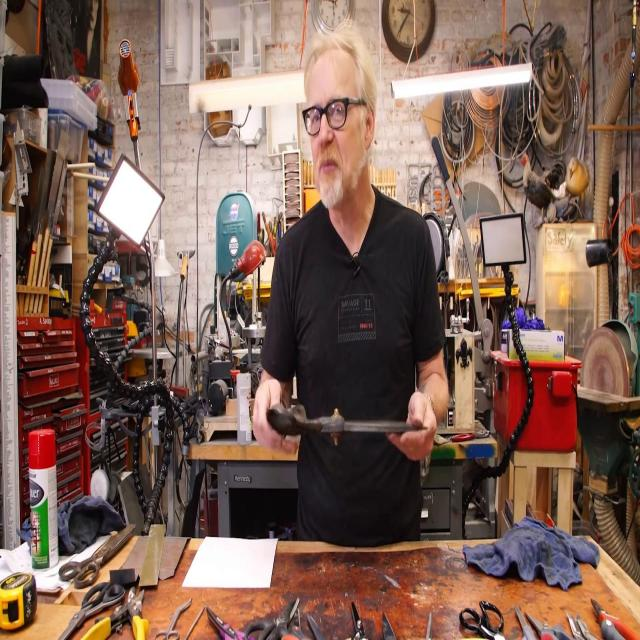scissor: (267, 406, 428, 446), (58, 522, 136, 589), (58, 581, 126, 640), (244, 595, 299, 640), (459, 599, 506, 640), (206, 606, 256, 640), (154, 596, 192, 640), (525, 611, 575, 640), (344, 599, 369, 640), (280, 608, 312, 640), (515, 603, 538, 640)
